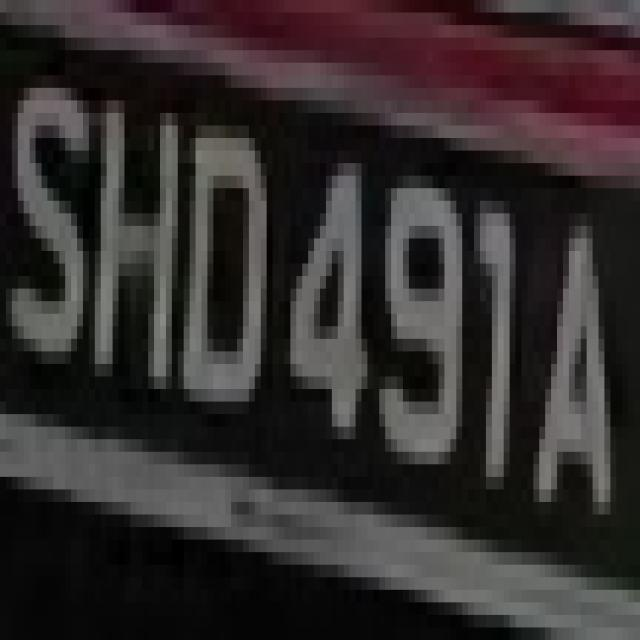1: (468, 163, 528, 502)
4: (267, 113, 391, 502)
9: (379, 113, 474, 489)
A: (522, 188, 616, 565)
D: (190, 88, 278, 427)
H: (89, 50, 178, 439)
S: (6, 12, 89, 376)
